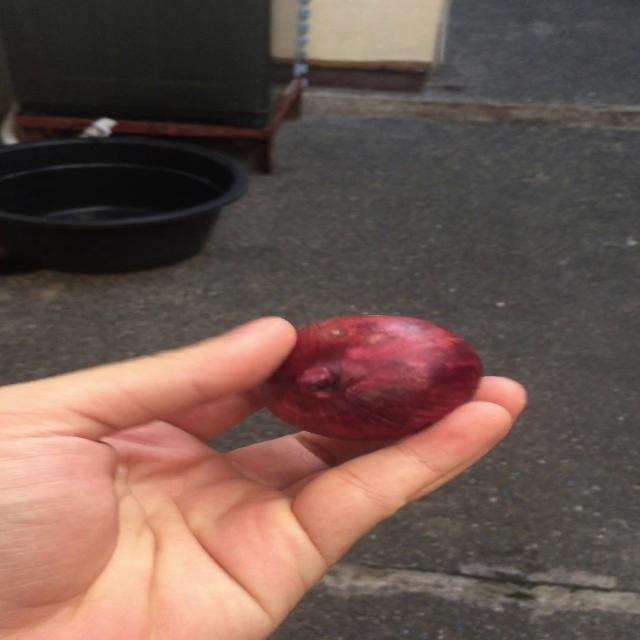Onion: (261, 315, 481, 441)
